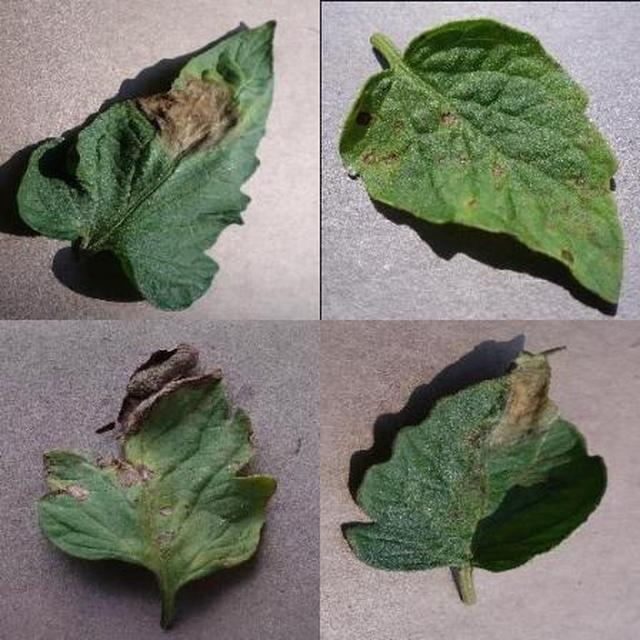Late Blight Leaf: (210, 231, 640, 640)
